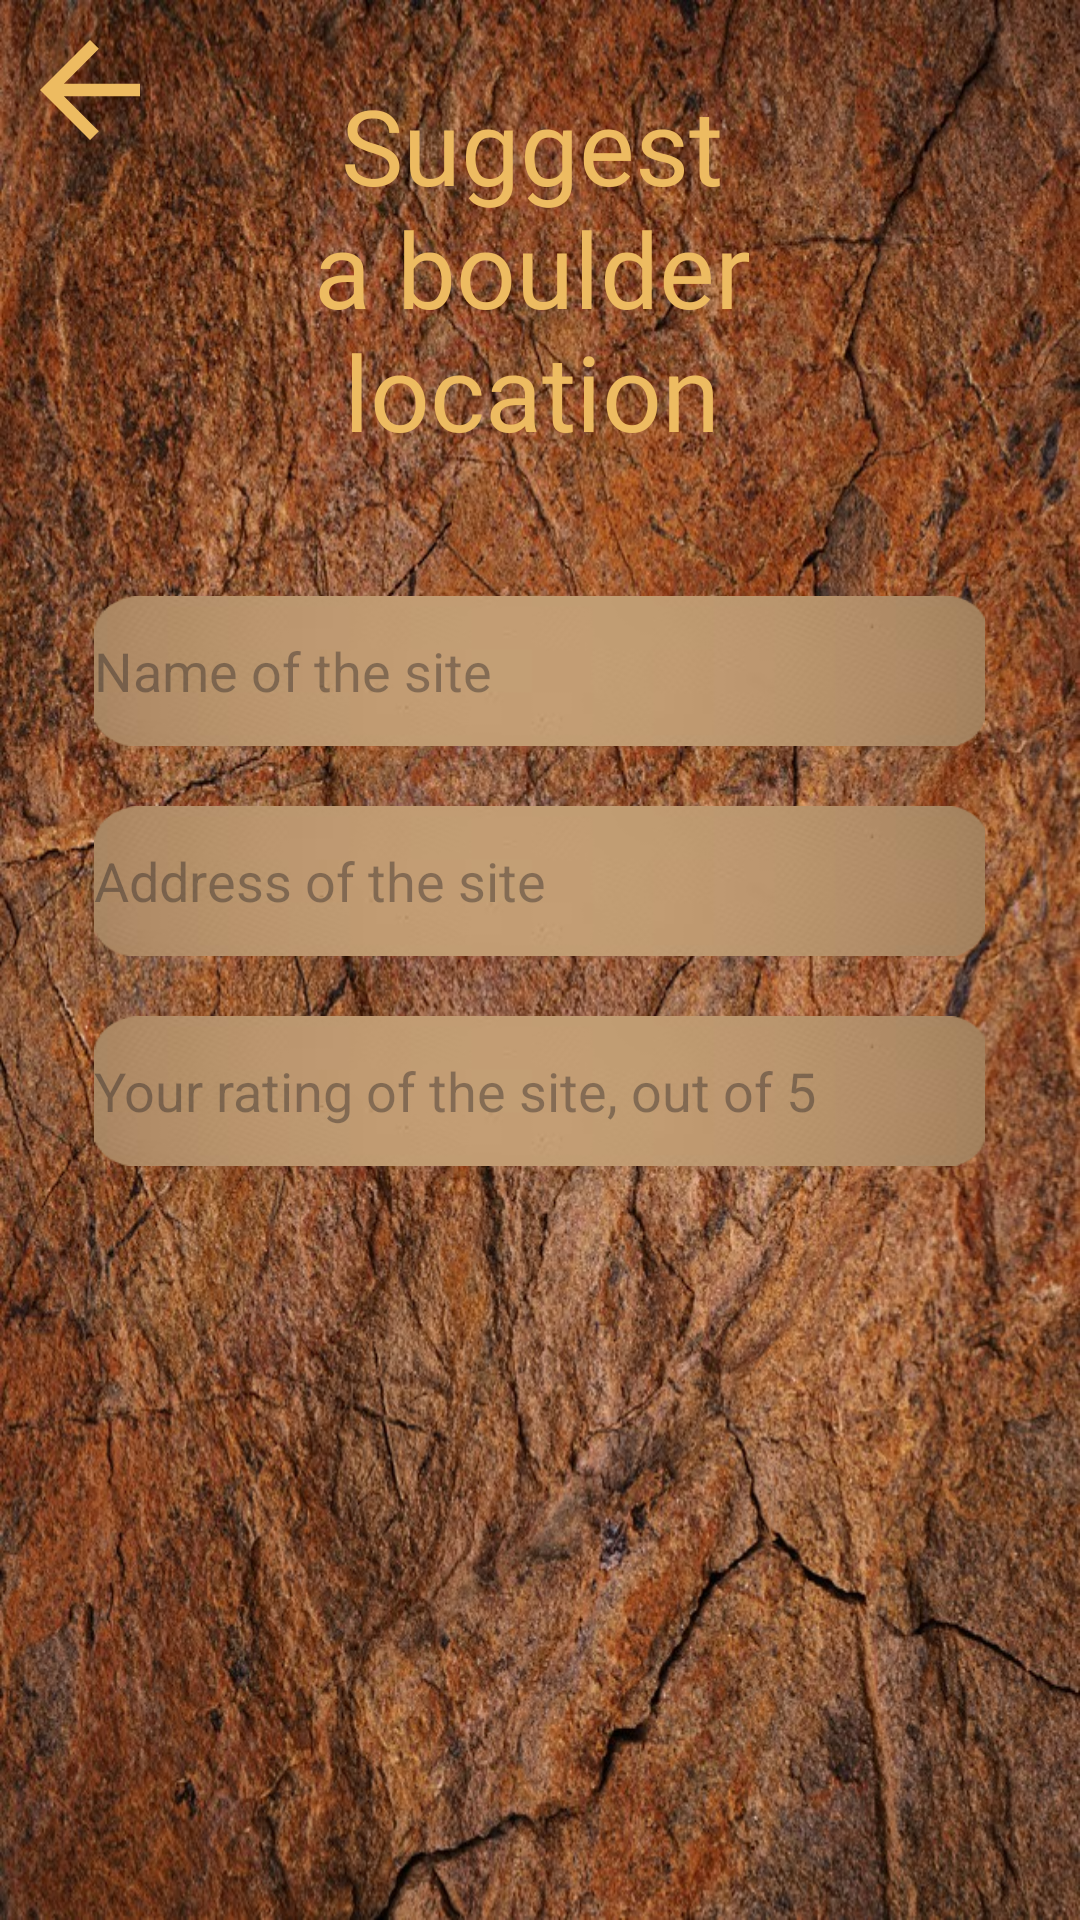

Point at icon controls on the screen. Image size 1080 × 1920, points as (x=x, y=y).
arrow back: (x=90, y=90)
